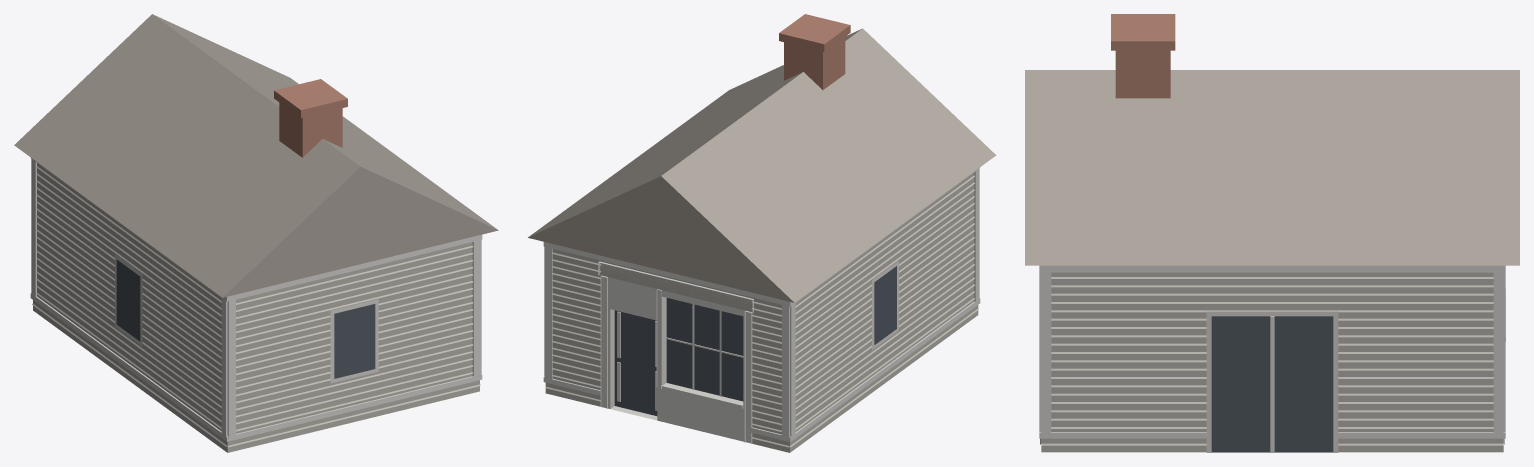
File: recon_1835_south_c1_003__inferred_1835.glb
3 renders of one model, left to right at view 1: azimuth 30°, elevation 25°; view 2: azimuth 150°, elevation 25°; view 3: azimuth 270°, elevation 25°, orthographic. The views are drawn at different scales.
Parts seen in each view (by area): view 1: recon_1835_south_c1_003__inferred_1835; view 2: recon_1835_south_c1_003__inferred_1835; view 3: recon_1835_south_c1_003__inferred_1835.
Part boxes in pixels (bbox=[...]): recon_1835_south_c1_003__inferred_1835: bbox=[14, 14, 498, 452]; recon_1835_south_c1_003__inferred_1835: bbox=[528, 14, 996, 452]; recon_1835_south_c1_003__inferred_1835: bbox=[1025, 14, 1519, 452].
Bounding box in the file's own units: 5.76 × 5.9 × 7.53.
